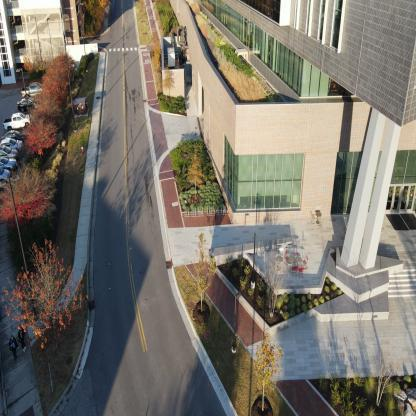Fitts- Woolard: (166, 1, 416, 364)
